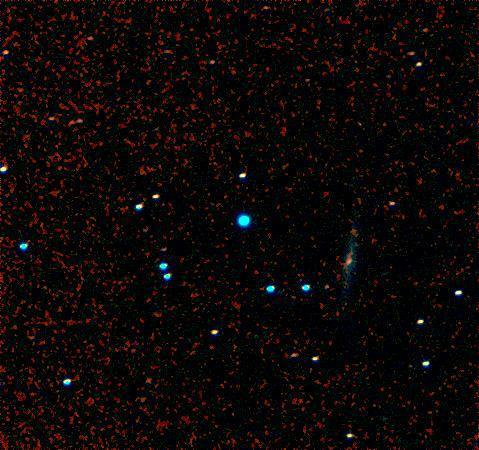star: (341, 215, 371, 245)
